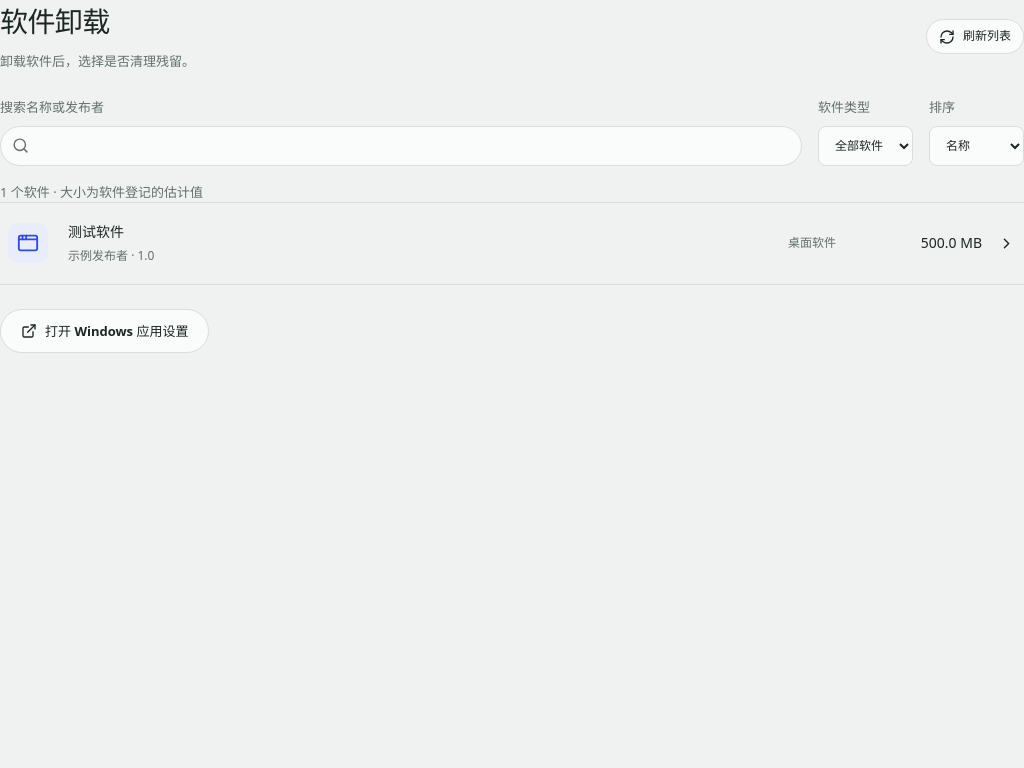
Test: software removal › preserves older descriptions without inferring category support from the old aggregate flag
This screenshot has width=1024, height=768.
Click the button "测试软件 示例发布者 · 1.0 桌面软件 500.0 MB": (28, 243) [0,203,1023,285]
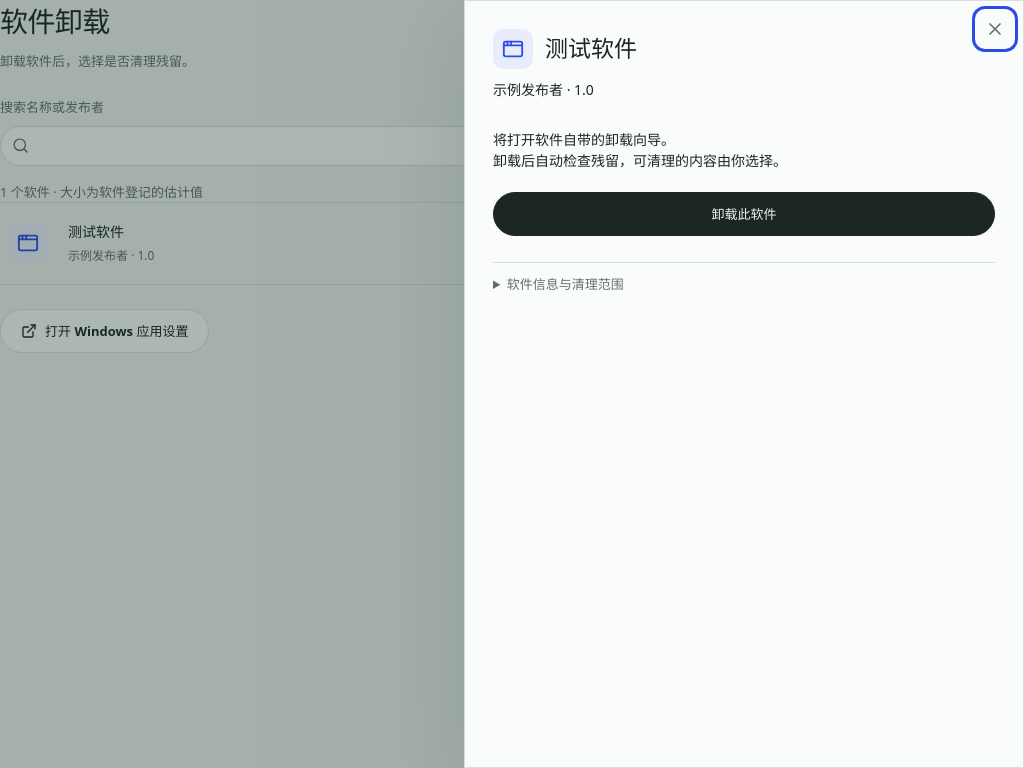
Click the heading "软件信息与清理范围": (565, 284) [507,275,624,293]
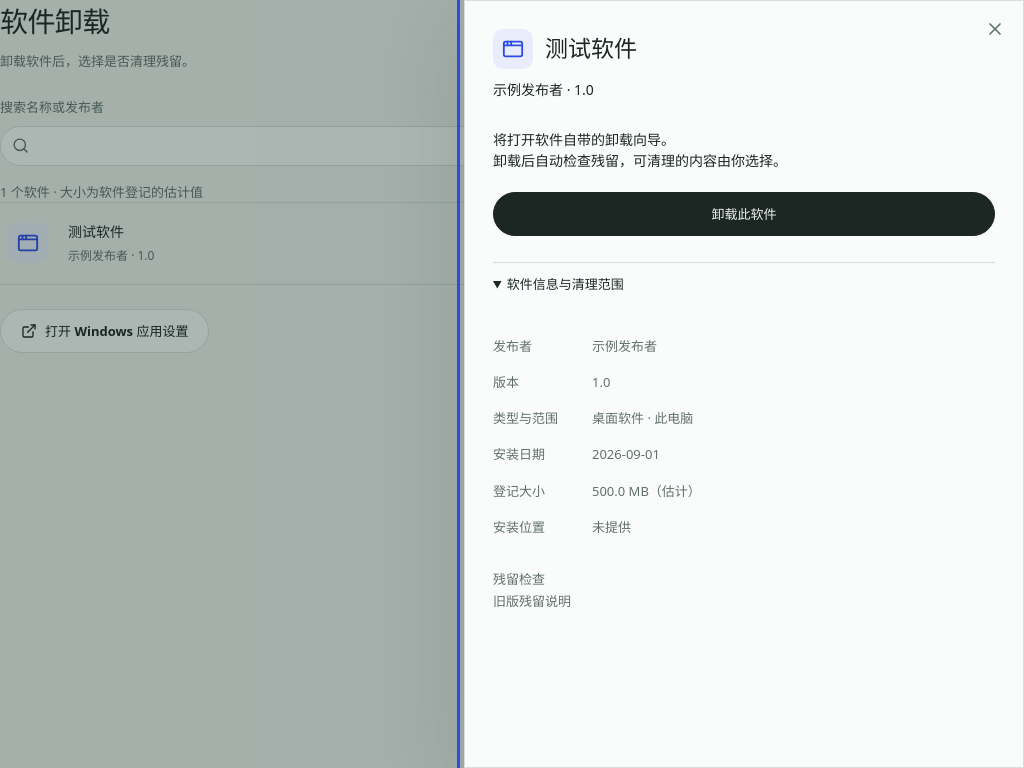
expect the button "卸载此软件" is enabled: met, box [493,192,995,236]
expect the text "旧版残留说明" is shown: met, box [493,592,571,610]
